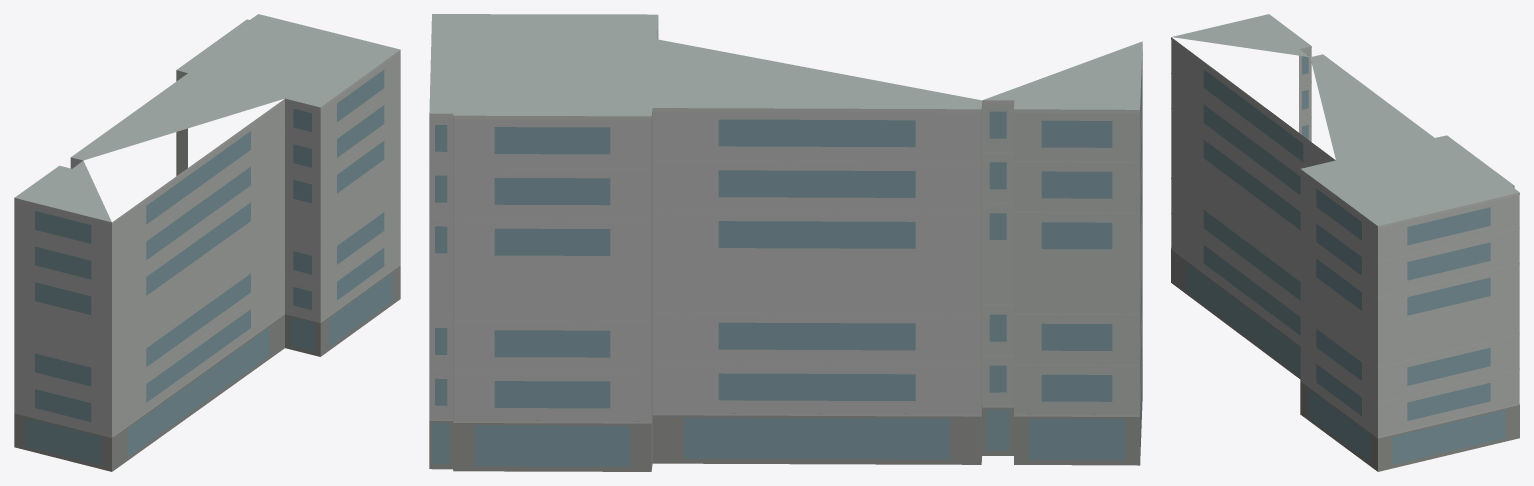
Rendered from survey-upis-33033910.glb.
3 views of the same model, side by side, from view 1: azimuth 30°, elevation 25°; view 2: azimuth 150°, elevation 25°; view 3: azimuth 270°, elevation 25° (orthographic). The views are drawn at different scales.
Parts seen in each view (by area): view 1: survey-upis-33033910.tmp; view 2: survey-upis-33033910.tmp; view 3: survey-upis-33033910.tmp.
Boxes of the visible parts, <box> form: survey-upis-33033910.tmp: <box>14,14,400,471</box>; survey-upis-33033910.tmp: <box>429,14,1142,471</box>; survey-upis-33033910.tmp: <box>1171,14,1519,471</box>.
Bounding box in the file's own units: 43.21 × 23.32 × 30.01.
